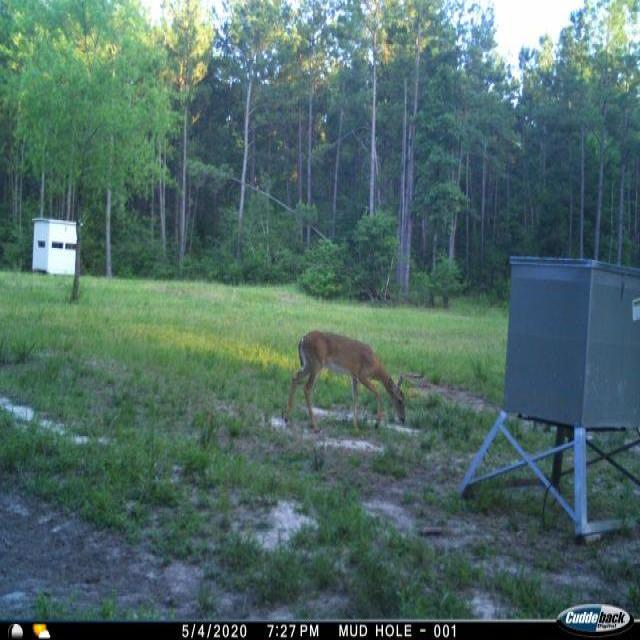deer: (282, 325, 412, 439)
